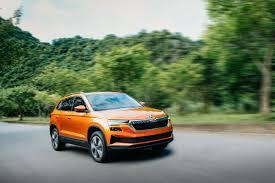skoda: (148, 113, 157, 121)
